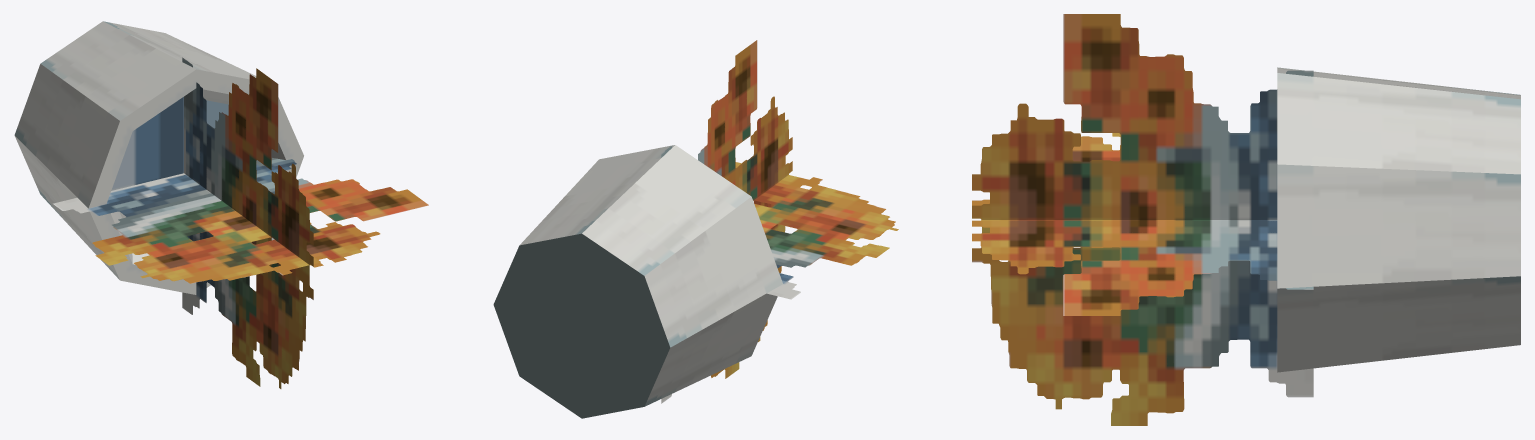
Rendered from pz_plant_native_6.obj.
3 views of the same model, side by side, from view 1: azimuth 30°, elevation 25°; view 2: azimuth 150°, elevation 25°; view 3: azimuth 270°, elevation 25° (orthographic). The views are drawn at different scales.
Visible parts, largest first — view 1: foliage_PNG_crossed_cards, pot_soil_and_rim; view 2: pot_soil_and_rim, foliage_PNG_crossed_cards; view 3: foliage_PNG_crossed_cards, pot_soil_and_rim.
Boxes of the visible parts, bbox=[...] form: foliage_PNG_crossed_cards: bbox=[53, 57, 428, 388]; pot_soil_and_rim: bbox=[14, 21, 303, 294]; pot_soil_and_rim: bbox=[493, 145, 782, 418]; foliage_PNG_crossed_cards: bbox=[661, 40, 898, 403]; foliage_PNG_crossed_cards: bbox=[972, 14, 1313, 425]; pot_soil_and_rim: bbox=[1277, 67, 1520, 372].
Bounding box in the file's own units: 0.4331 × 0.4331 × 0.523.
Materials: 1 (1 with a texture image).
